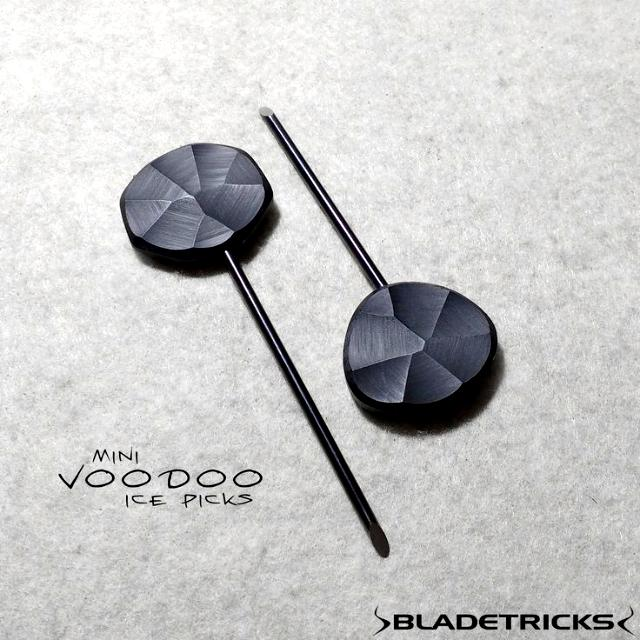ice pick: (119, 143, 391, 559), (257, 107, 498, 419)
